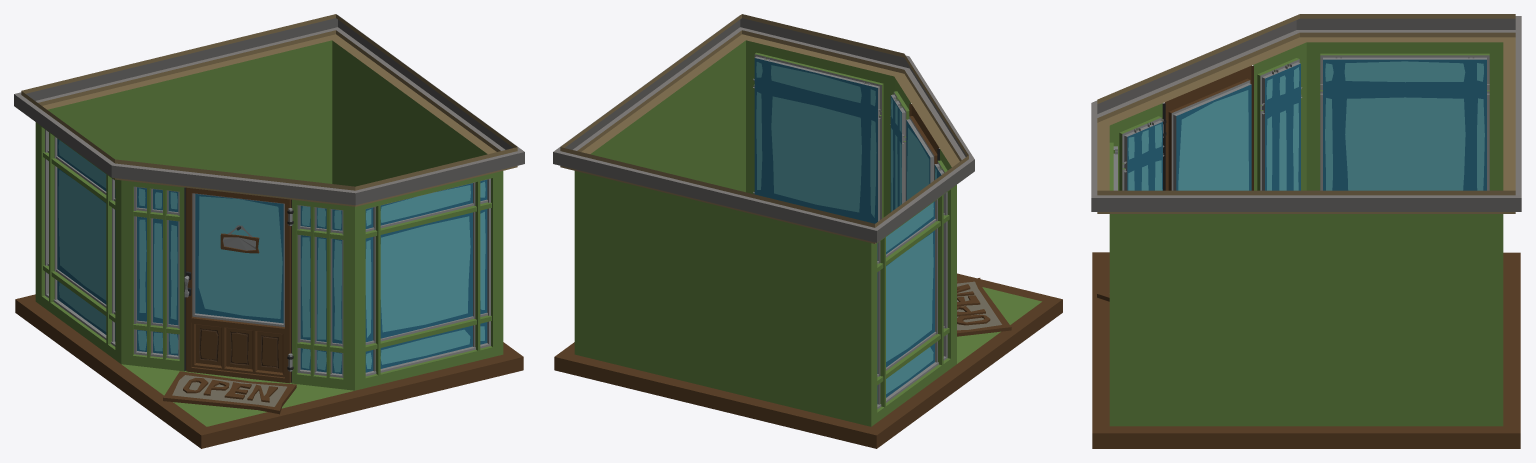
File: Building_A_01_02.FBX
3 renders of one model, left to right at view 1: azimuth 30°, elevation 25°; view 2: azimuth 150°, elevation 25°; view 3: azimuth 270°, elevation 25°, orthographic. The views are drawn at different scales.
Parts seen in each view (by area): view 1: Building_A_01_02; view 2: Building_A_01_02; view 3: Building_A_01_02.
Part boxes in pixels (box(x1,y1,x2,y2)): Building_A_01_02: box(14, 14, 524, 448); Building_A_01_02: box(553, 14, 1062, 448); Building_A_01_02: box(1091, 14, 1521, 448).
Size of the model in its own units: 5.02 by 3.3 by 5.02.
